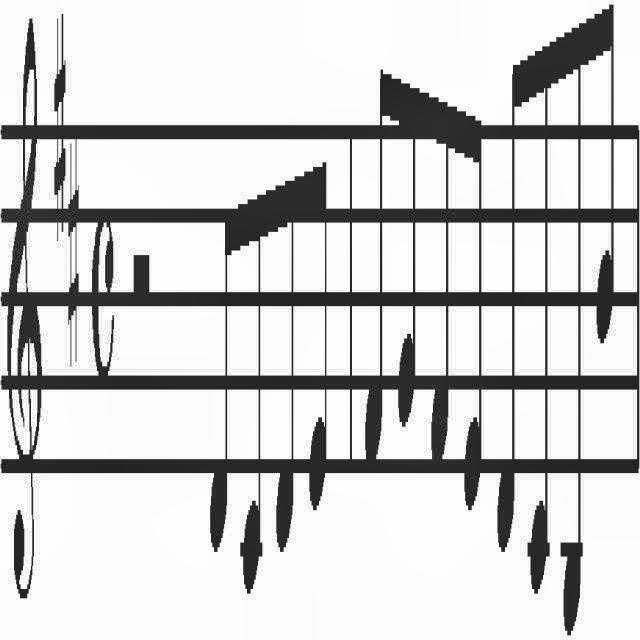Bass-clef: (4, 4, 46, 640)
Diez: (48, 0, 68, 254), (65, 118, 83, 362)
Eighth-note: (558, 15, 589, 640), (524, 32, 554, 600), (354, 29, 386, 536), (237, 151, 265, 640), (303, 119, 333, 561), (272, 130, 300, 594), (496, 48, 520, 580), (202, 166, 230, 604), (392, 39, 420, 472), (461, 99, 487, 538), (430, 57, 454, 490), (589, 1, 619, 340)
